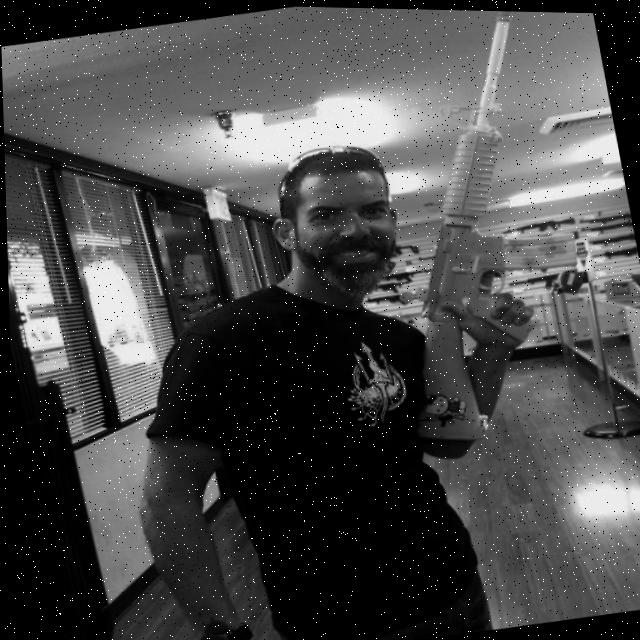firearm: (339, 6, 609, 449)
